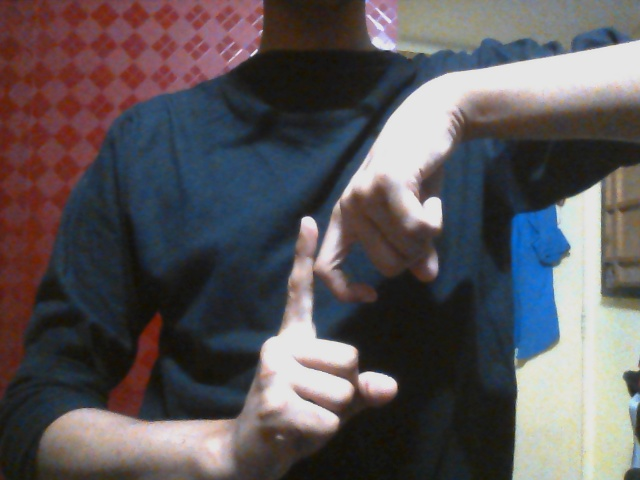K: (247, 177, 438, 452)
